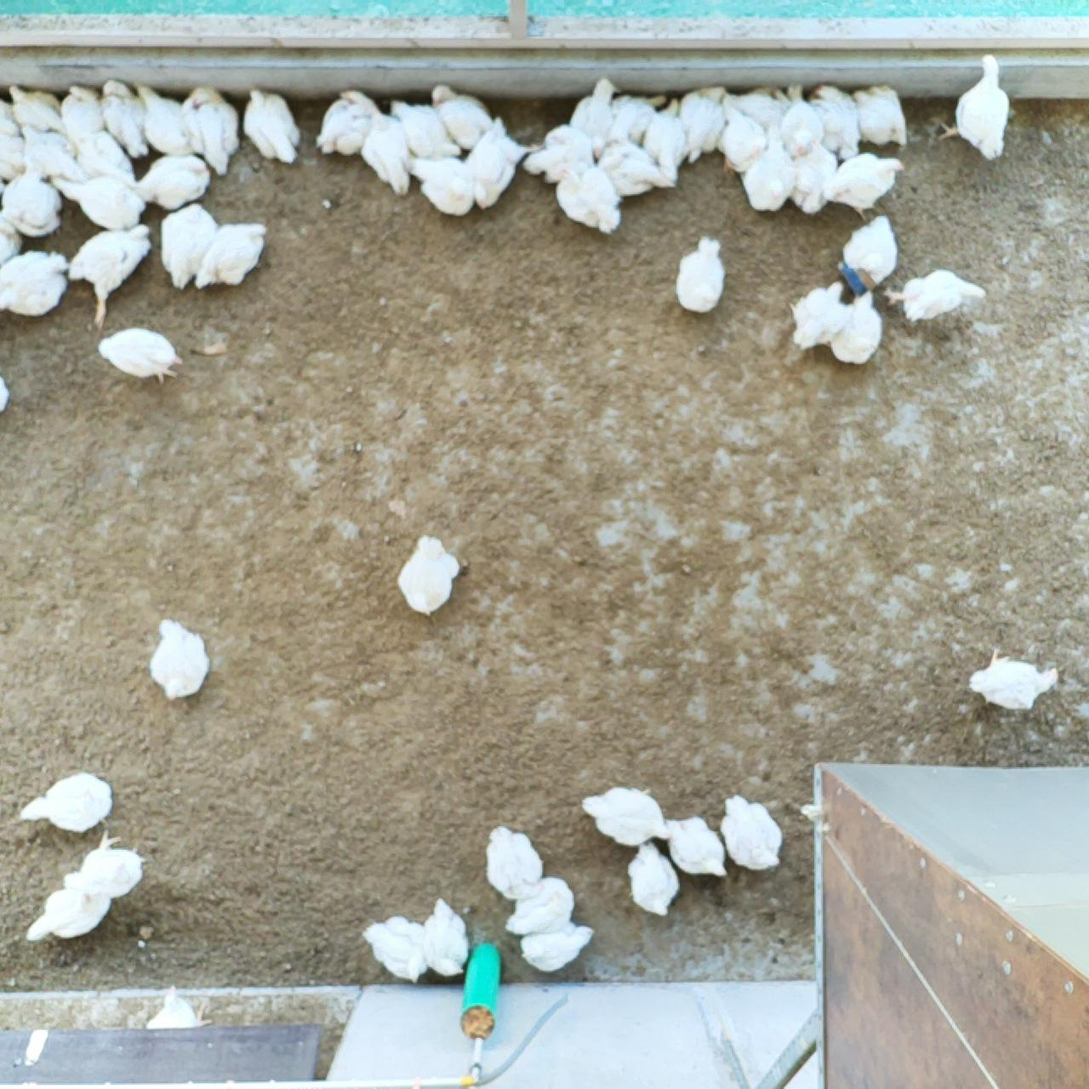chicken: (69, 222, 156, 332), (935, 52, 1011, 163), (464, 115, 542, 210), (61, 829, 148, 902), (820, 150, 905, 223), (968, 646, 1062, 712), (882, 267, 986, 326), (579, 782, 673, 847), (18, 771, 115, 832), (395, 533, 463, 620), (181, 85, 242, 178), (148, 614, 211, 703), (717, 790, 785, 872), (589, 135, 677, 198), (49, 175, 146, 232), (159, 202, 220, 292), (23, 887, 114, 947), (193, 221, 269, 291), (94, 325, 184, 384), (360, 103, 414, 199), (554, 162, 623, 236), (134, 80, 199, 157), (743, 119, 796, 213), (360, 913, 430, 984), (0, 245, 69, 317), (482, 822, 544, 900), (504, 872, 577, 938), (661, 813, 731, 881), (787, 279, 852, 352), (389, 97, 463, 160), (243, 87, 302, 166), (521, 122, 595, 184), (429, 82, 494, 152), (405, 155, 475, 219), (674, 232, 727, 316), (3, 163, 63, 237), (422, 894, 474, 979), (625, 840, 681, 918), (569, 76, 621, 160), (17, 122, 86, 185), (316, 89, 379, 158), (518, 919, 597, 974), (829, 290, 884, 369), (135, 153, 212, 209), (68, 124, 137, 186), (809, 82, 863, 161), (98, 78, 149, 159), (789, 138, 840, 218), (850, 81, 909, 150), (842, 212, 900, 282), (642, 96, 688, 184), (714, 105, 767, 180), (777, 81, 826, 158), (680, 85, 728, 163), (143, 982, 212, 1030), (7, 83, 66, 135), (58, 83, 106, 146), (607, 92, 666, 143), (722, 84, 791, 127), (0, 116, 27, 183), (0, 213, 22, 268)
